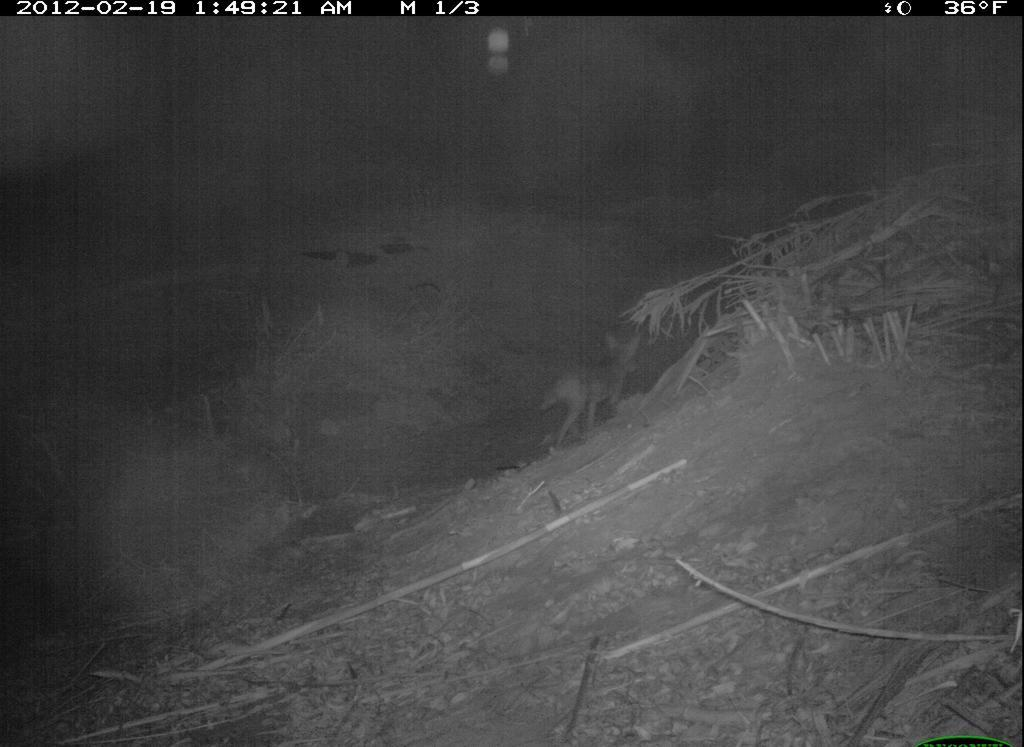coyote: (530, 329, 648, 447)
